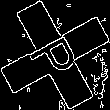P_NE: (24, 27, 86, 83)
